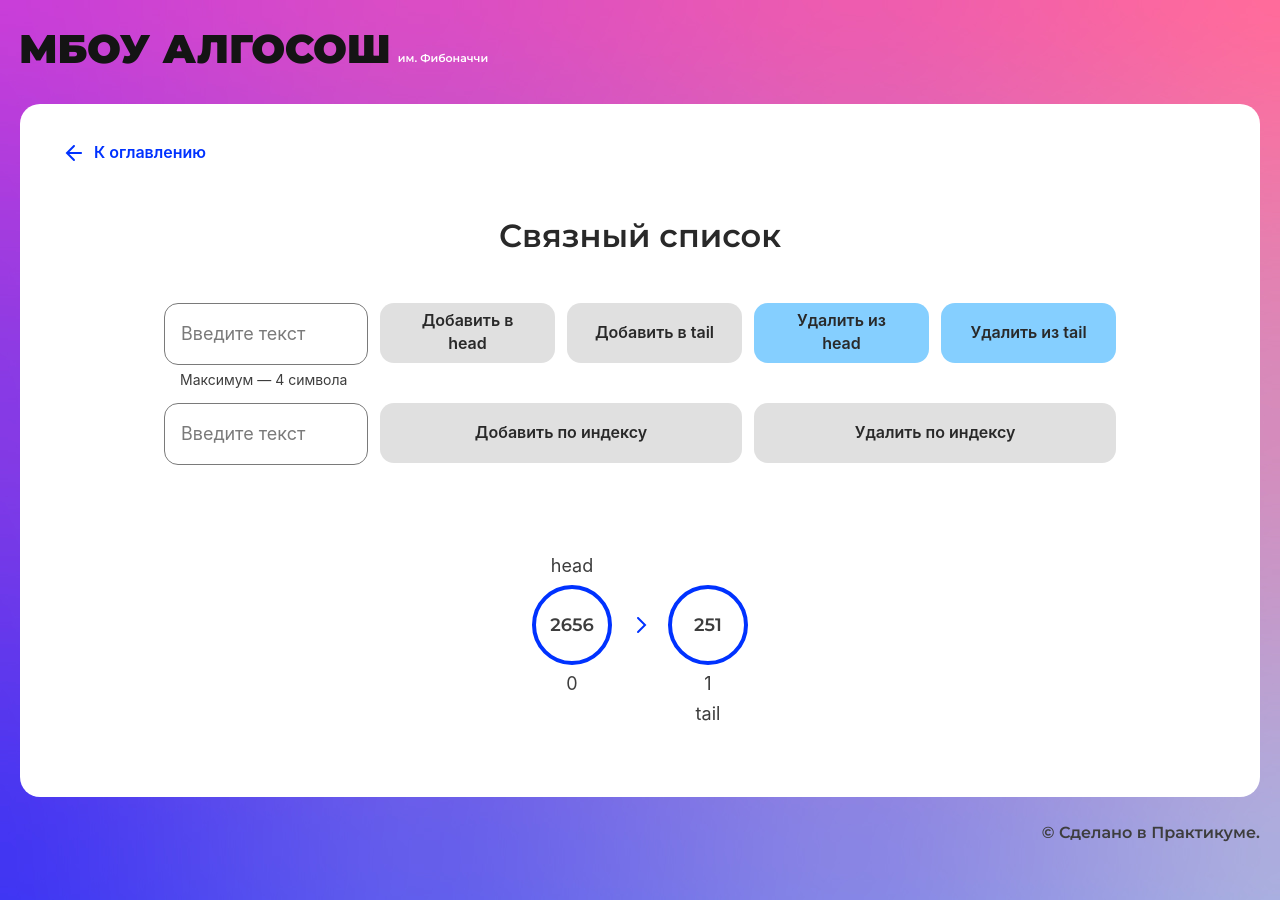
Testing string reversal algorithm page › Correct animation of removing head from the list
Expected: the element with test id "input-value" is enabled
Type "moon" into the field with test id "input-value" at (266, 334), box [164,303,368,365]
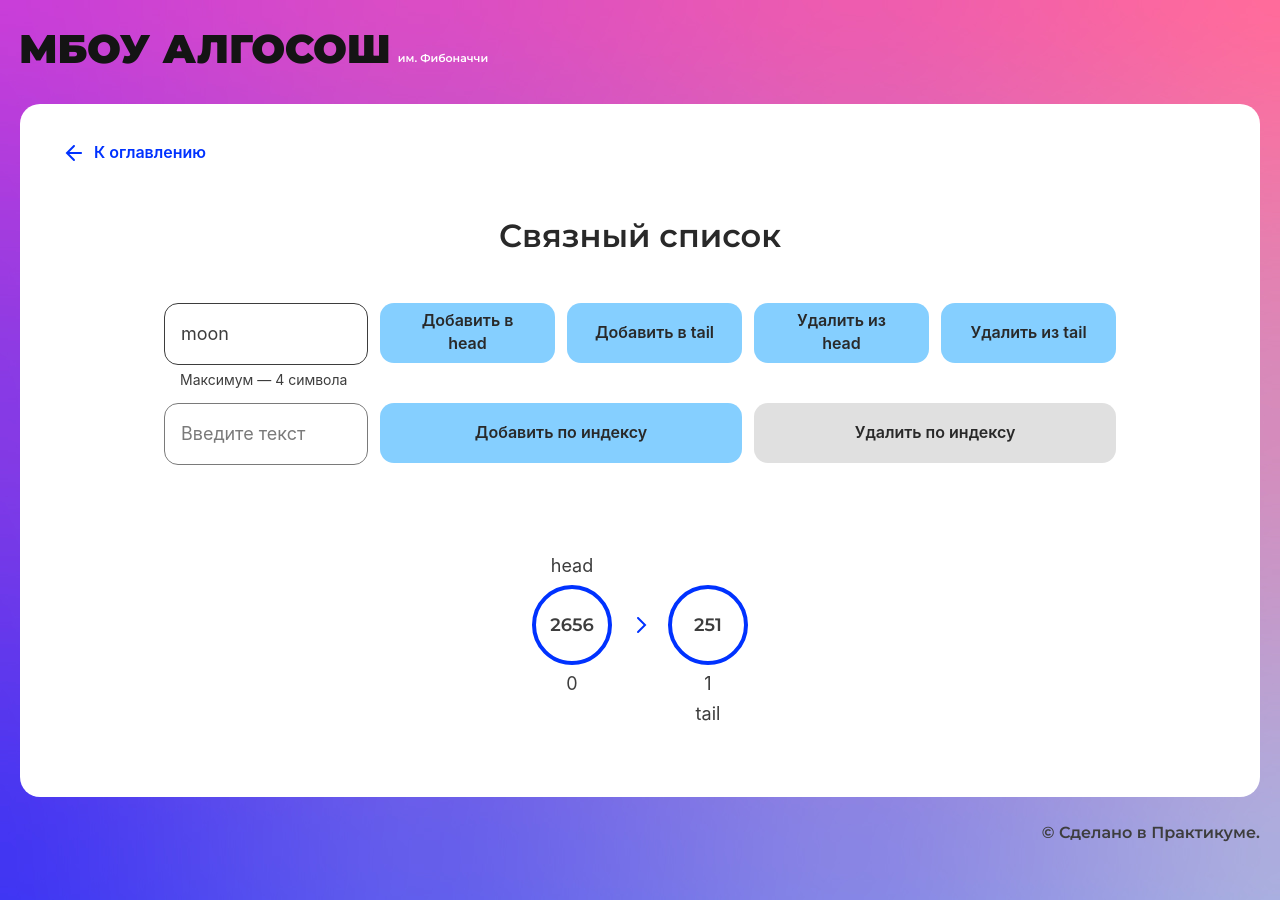
Expected: the element with test id "button-add-head" is enabled
Click the button with test id "button-add-head" at (468, 333), box [380,303,555,363]
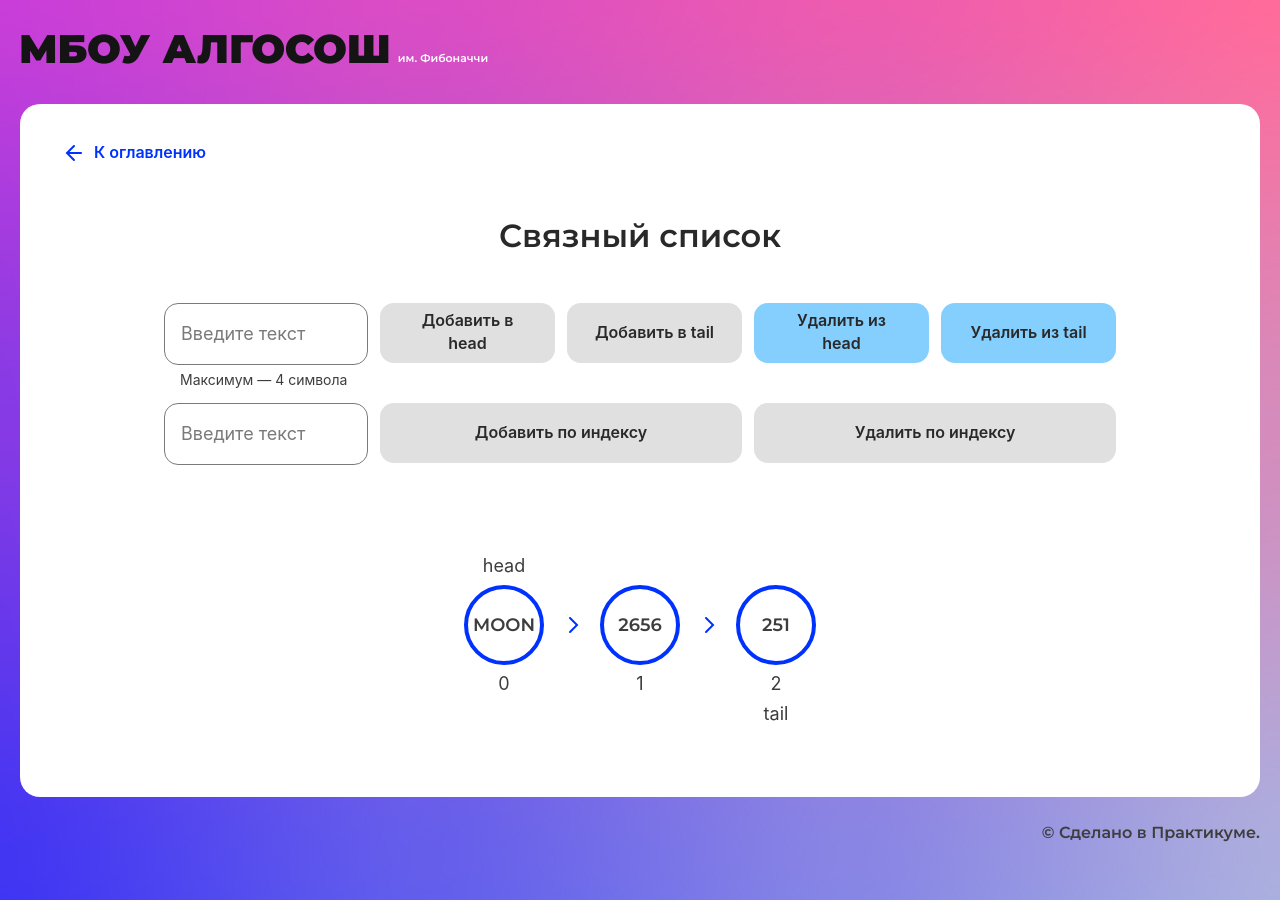
Expected: the element with test id "input-value" is enabled
Type "sun" into the field with test id "input-value" at (266, 334), box [164,303,368,365]
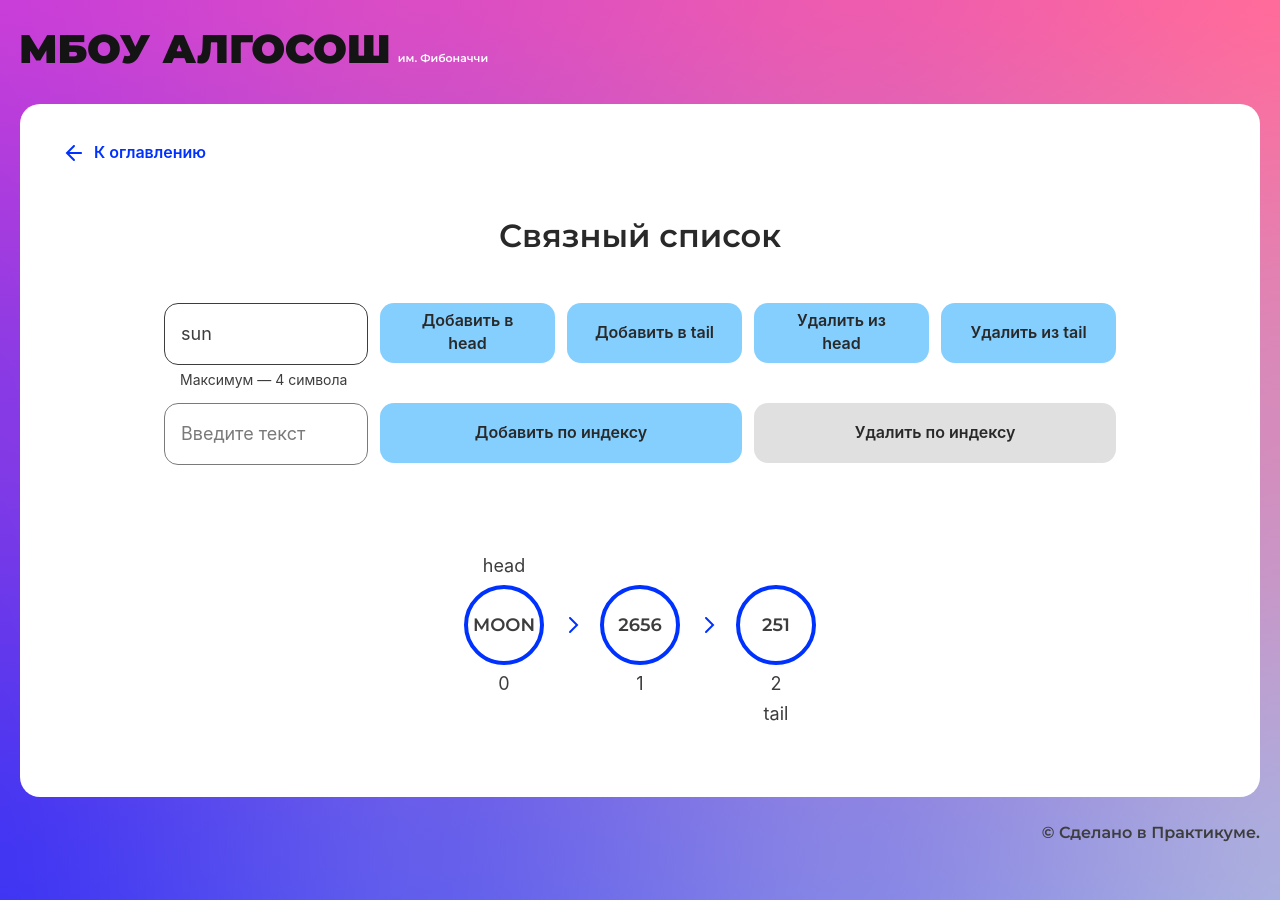
Expected: the element with test id "button-add-head" is enabled
Click the button with test id "button-add-head" at (468, 333), box [380,303,555,363]
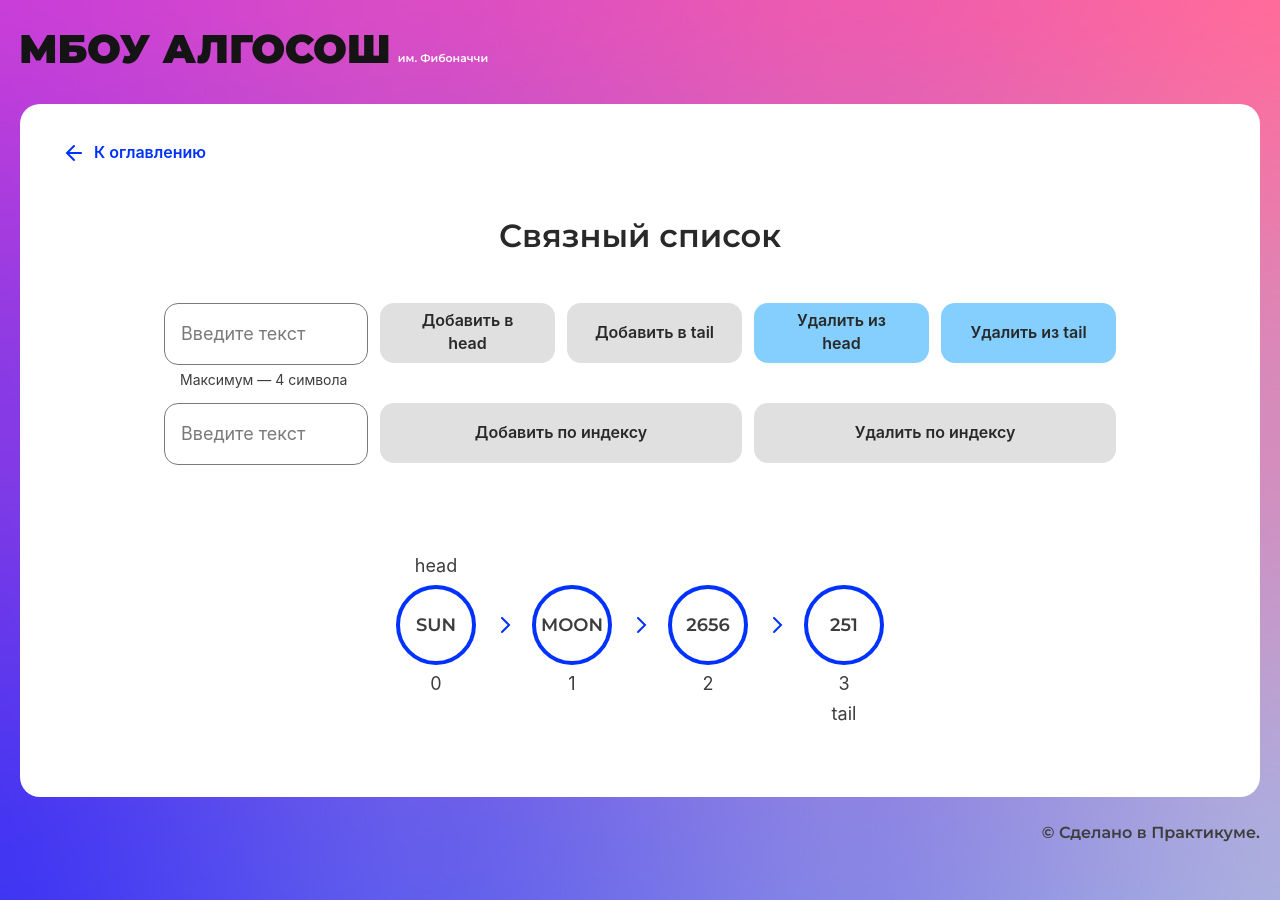
Expected: the element with test id "button-delete-head" is enabled
Click the button with test id "button-delete-head" at (842, 333), box [754,303,929,363]
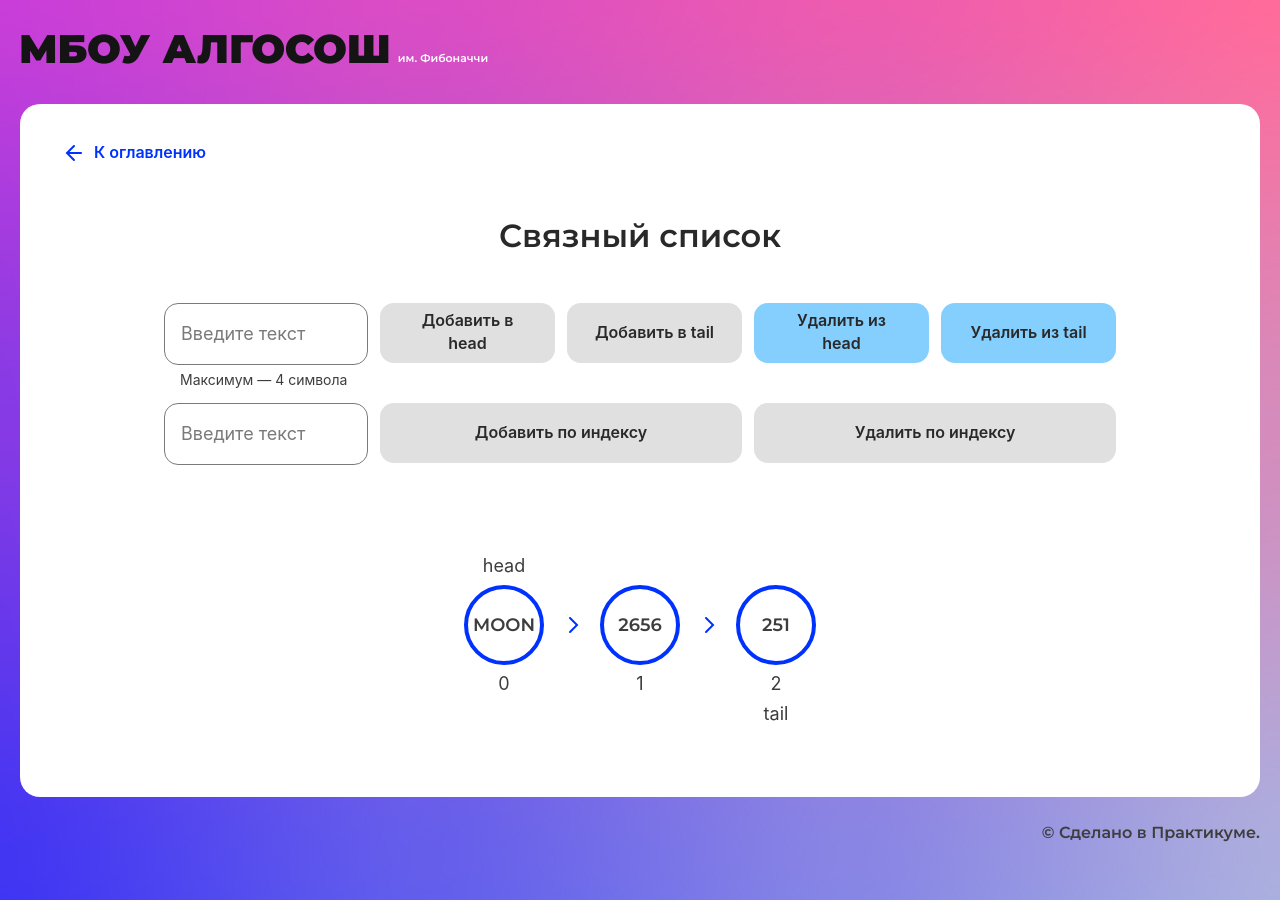
Expected: the text "head" is shown, [483,554,525,576]
Result: the element showing "moon" is shown at [464,584,544,664]
Result: the text "sun" is gone
